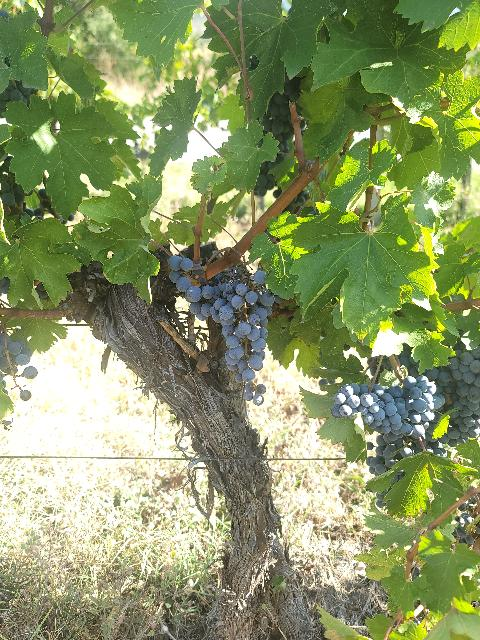grapes: (212, 266, 276, 405), (331, 376, 445, 434), (436, 342, 480, 446), (168, 255, 215, 319)
